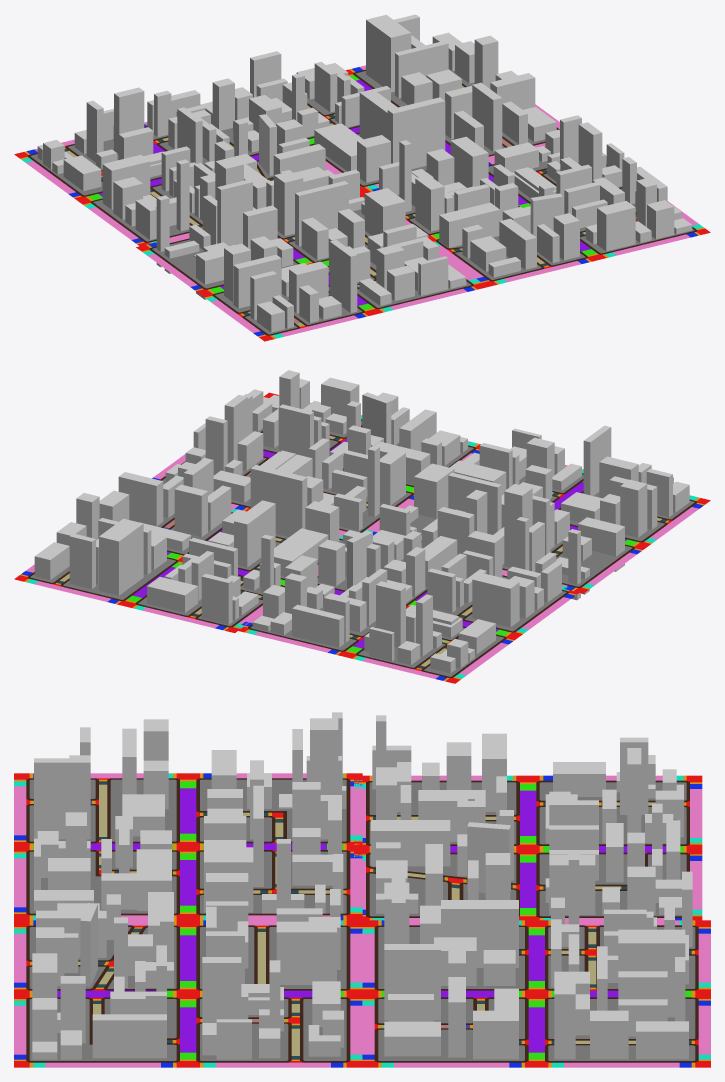
Rendered from city.FBX.
3 renders of one model, top to bottom at view 1: azimuth 30°, elevation 25°; view 2: azimuth 150°, elevation 25°; view 3: azimuth 270°, elevation 25°, orthographic. The views are drawn at different scales.
Visible parts, largest first — view 1: CityBlock-C, CityBlock-D, CityBlock-A, WRectangle109, WRectangle110, CityBlock-B, WRectangle153, WRectangle150, WRectangle089, WRectangle161, WRectangle058, WRectangle114 (+82 smaller); view 2: CityBlock-A, CityBlock-B, CityBlock-C, WRectangle110, WRectangle109, CityBlock-D, WRectangle021, WRectangle104, WRectangle125, WRectangle006, WRectangle153, WRectangle132 (+80 smaller); view 3: CityBlock-D, CityBlock-B, CityBlock-C, CityBlock-A, WRectangle161, WRectangle066, WRectangle104, WRectangle051, WRectangle122, WRectangle110, WRectangle044, WRectangle049 (+93 smaller).
Part boxes in pixels (x1=…): CityBlock-C: x1=136, y1=194, x2=487, y2=341; CityBlock-D: x1=360, y1=156, x2=710, y2=286; CityBlock-A: x1=14, y1=122, x2=361, y2=248; WRectangle109: x1=387, y1=97, x2=445, y2=168; WRectangle110: x1=366, y1=14, x2=411, y2=92; CityBlock-B: x1=282, y1=65, x2=559, y2=192; WRectangle153: x1=295, y1=181, x2=348, y2=246; WRectangle150: x1=217, y1=179, x2=252, y2=245; WRectangle089: x1=439, y1=202, x2=499, y2=247; WRectangle161: x1=329, y1=240, x2=357, y2=312; WRectangle058: x1=597, y1=201, x2=635, y2=251; WRectangle114: x1=395, y1=40, x2=448, y2=98; CityBlock-A: x1=238, y1=559, x2=582, y2=683; CityBlock-B: x1=14, y1=508, x2=342, y2=632; CityBlock-C: x1=373, y1=465, x2=710, y2=593; WRectangle110: x1=99, y1=518, x2=143, y2=595; WRectangle109: x1=250, y1=465, x2=307, y2=536; CityBlock-D: x1=152, y1=392, x2=480, y2=534; WRectangle021: x1=472, y1=573, x2=519, y2=627; WRectangle104: x1=234, y1=500, x2=275, y2=567; WRectangle125: x1=118, y1=472, x2=163, y2=526; WRectangle006: x1=292, y1=604, x2=344, y2=647; WRectangle153: x1=448, y1=472, x2=501, y2=534; WRectangle132: x1=414, y1=463, x2=454, y2=518; CityBlock-D: x1=14, y1=920, x2=362, y2=1067; CityBlock-B: x1=362, y1=920, x2=710, y2=1067; CityBlock-C: x1=14, y1=773, x2=362, y2=920; CityBlock-A: x1=354, y1=775, x2=702, y2=922; WRectangle161: x1=34, y1=758, x2=90, y2=839; WRectangle066: x1=276, y1=921, x2=336, y2=984; WRectangle104: x1=441, y1=900, x2=518, y2=967; WRectangle051: x1=92, y1=1014, x2=166, y2=1058; WRectangle122: x1=384, y1=944, x2=440, y2=1020; WRectangle110: x1=618, y1=929, x2=685, y2=1017; WRectangle044: x1=370, y1=820, x2=450, y2=866; WRectangle049: x1=202, y1=957, x2=241, y2=1022.
Size of the model in its own units: 1969 by 382 by 1969.
